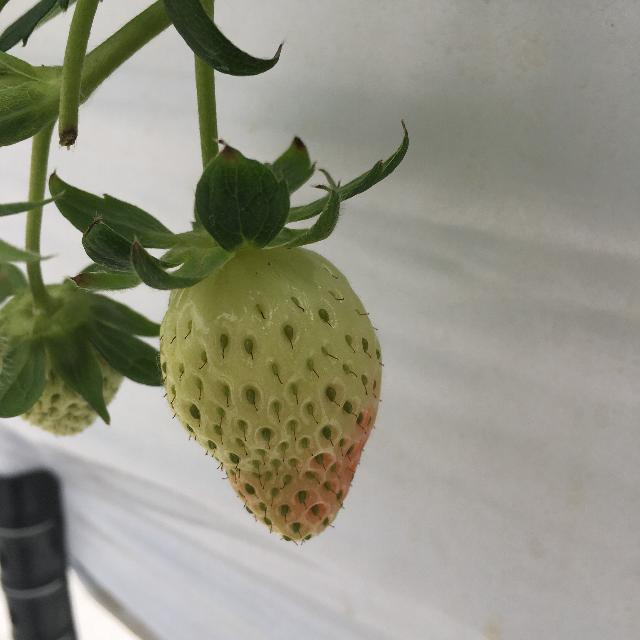Health_50: (152, 222, 396, 554)
